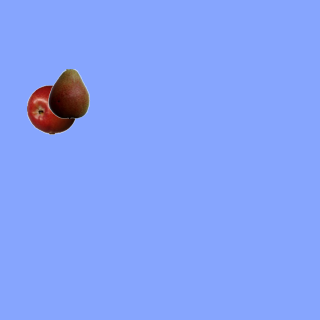Apple Braeburn: (26, 84, 76, 134)
Pear Forelle: (43, 68, 93, 118)
